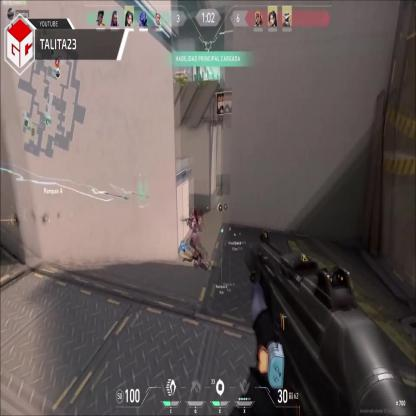enemy: (190, 207, 200, 265)
enemy_head: (191, 209, 196, 218)
